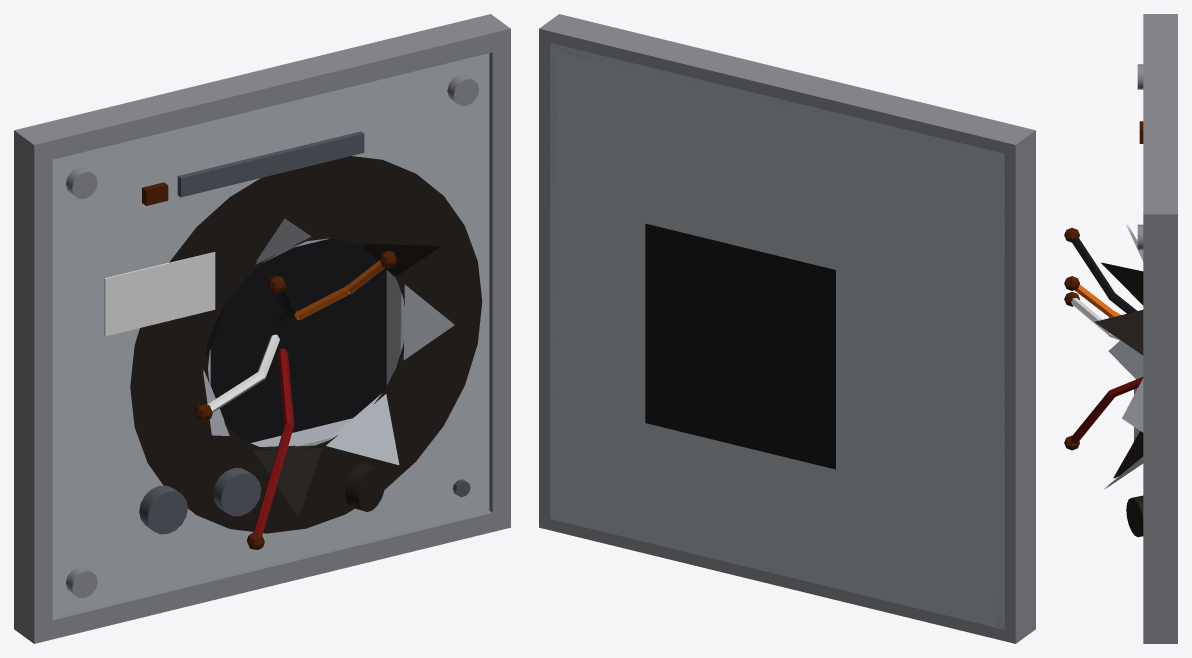
Rendered from repair_panel_damaged.obj.
3 renders of one model, left to right at view 1: azimuth 30°, elevation 25°; view 2: azimuth 150°, elevation 25°; view 3: azimuth 270°, elevation 25°, orthographic. The views are drawn at different scales.
Visible parts, largest first — view 1: repair_panel_damaged; view 2: repair_panel_damaged; view 3: repair_panel_damaged.
Part boxes in pixels (left/top/right/bottom): repair_panel_damaged: left=14, top=14, right=510, bottom=643; repair_panel_damaged: left=539, top=14, right=1035, bottom=643; repair_panel_damaged: left=1064, top=14, right=1177, bottom=643.
Size of the model in its own units: 1.3 by 1.3 by 0.312.
